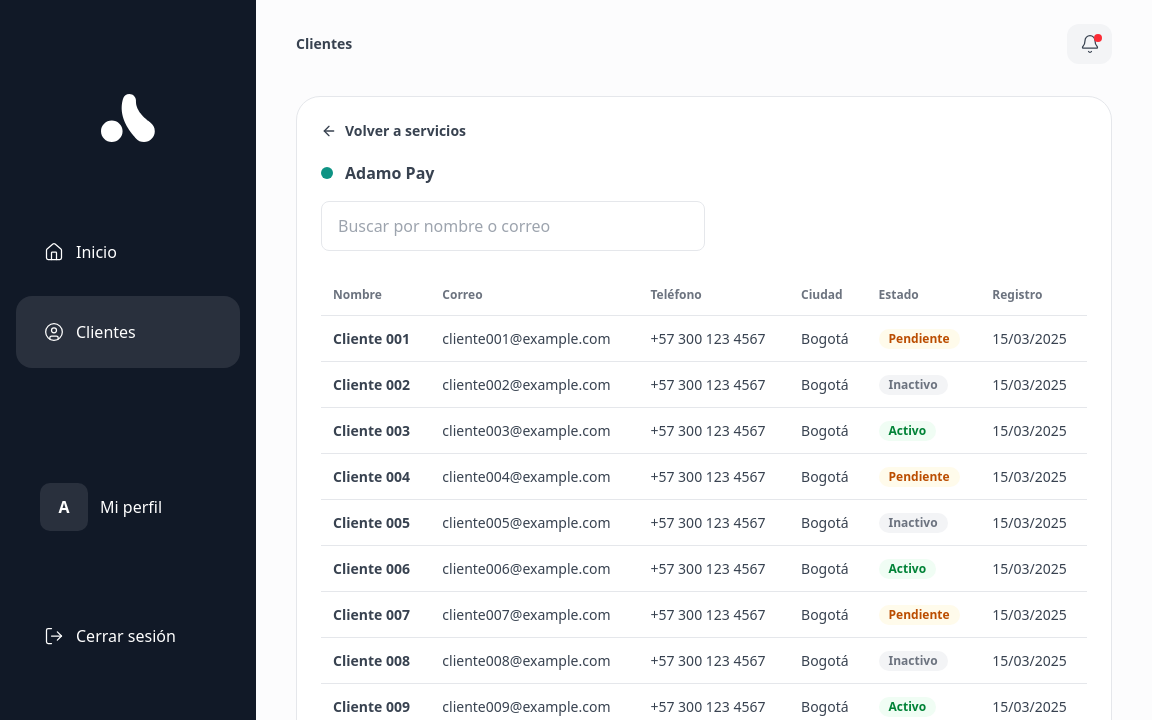
Test: ServiceClientsPage › búsqueda › espera a que dejes de escribir y entonces filtra, guardando el texto en la URL
Check: the heading "Adamo Pay" is shown, box [345, 161, 434, 185]
Type "cliente 04" into the search field named "Buscar clientes" at {"x": 513, "y": 226}, box [321, 201, 705, 251]
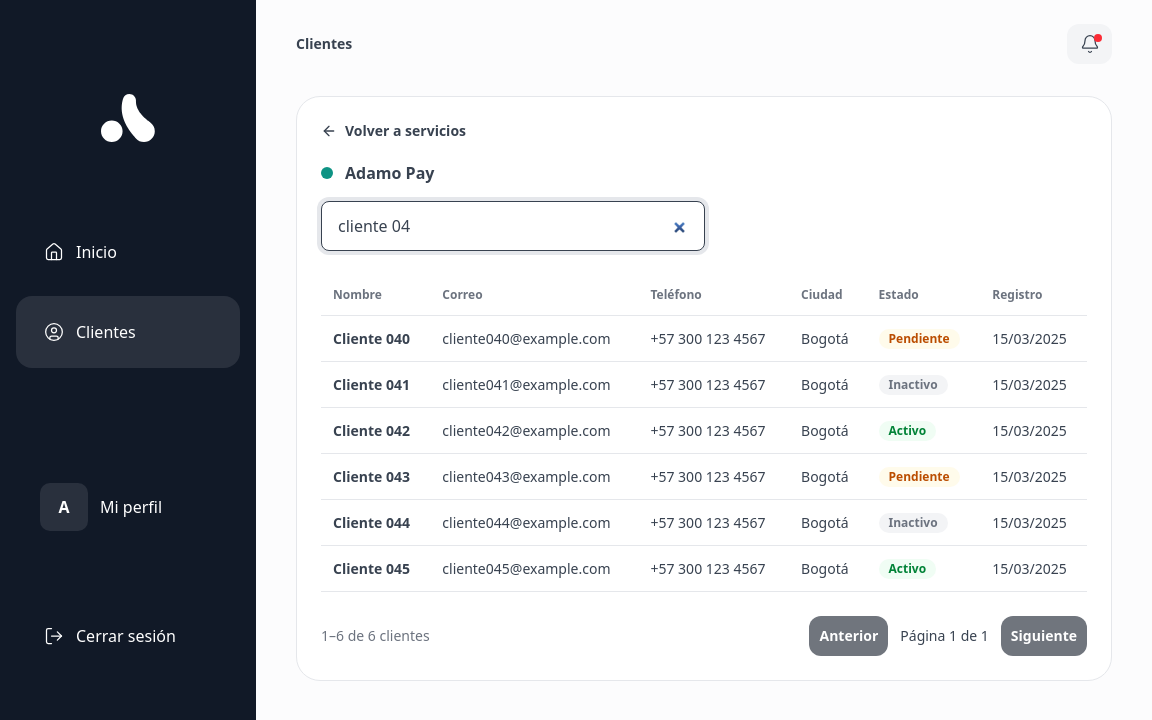
Check: the column heading "Cliente 040" is shown, box [321, 316, 430, 362]
